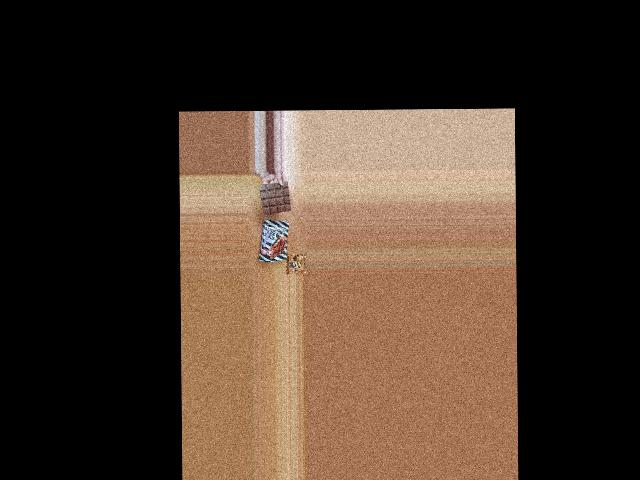chocolate: (258, 217, 288, 264)
